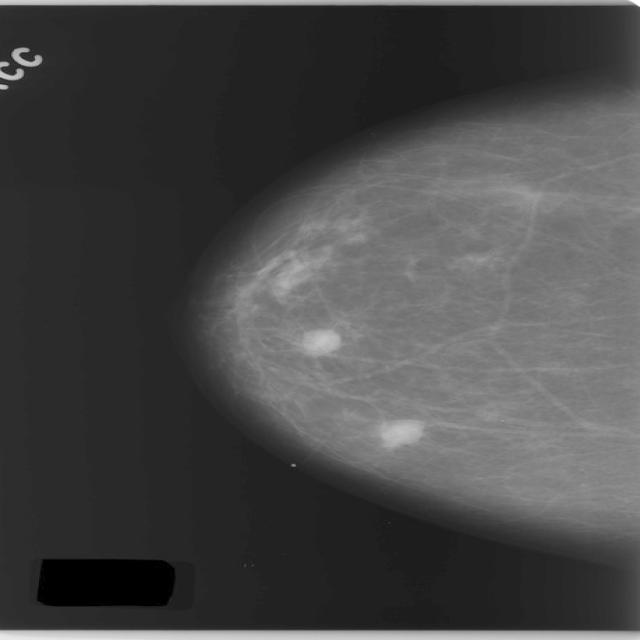tumour: (251, 248, 314, 298), (298, 327, 340, 356), (377, 418, 421, 444)
